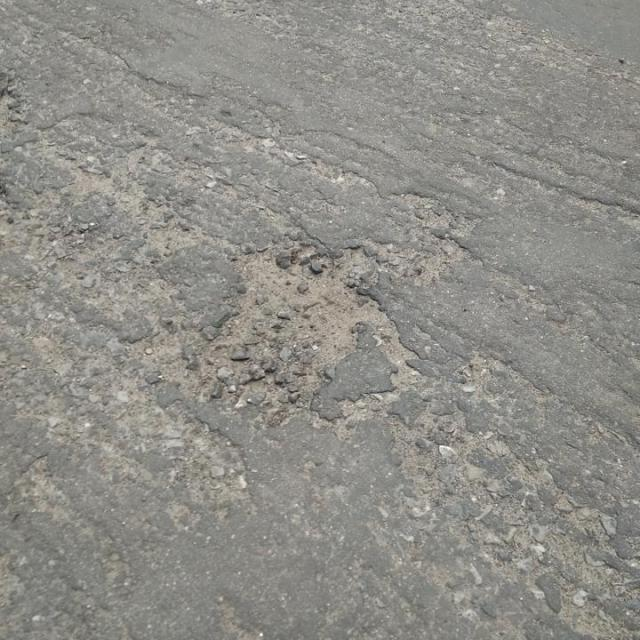Pothole: (199, 234, 398, 416)
